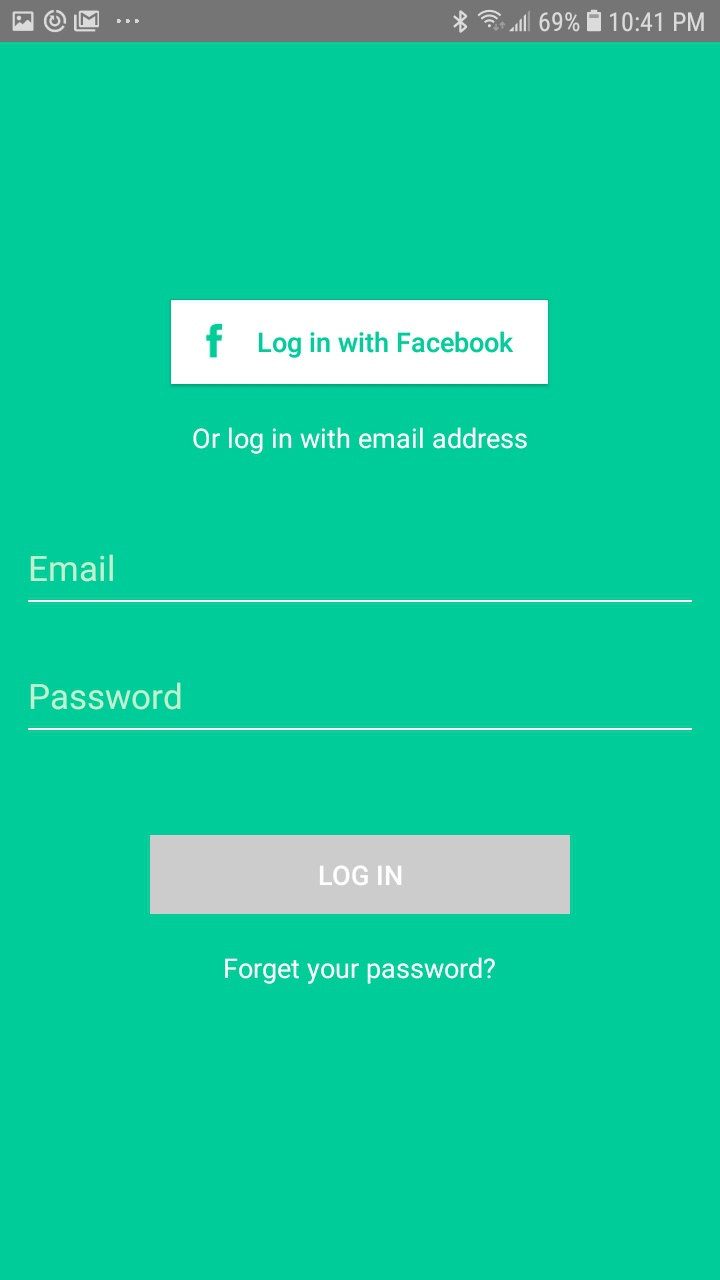EditText: (28, 681, 693, 731), (29, 554, 693, 604)
Text: (193, 427, 528, 456), (224, 956, 496, 985), (31, 682, 181, 711), (31, 555, 115, 583)
TextButton: (151, 835, 571, 915), (171, 300, 549, 385)
UpperTaskBar: (1, 1, 720, 43)
